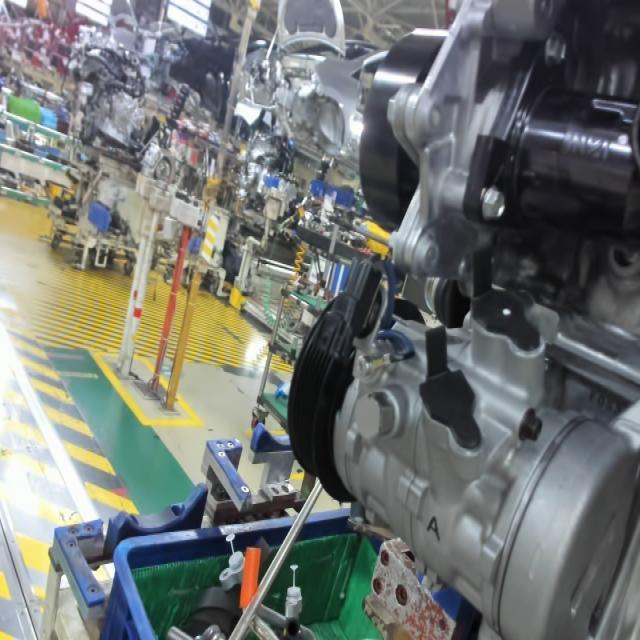Compressor-A: (422, 514, 443, 544)
